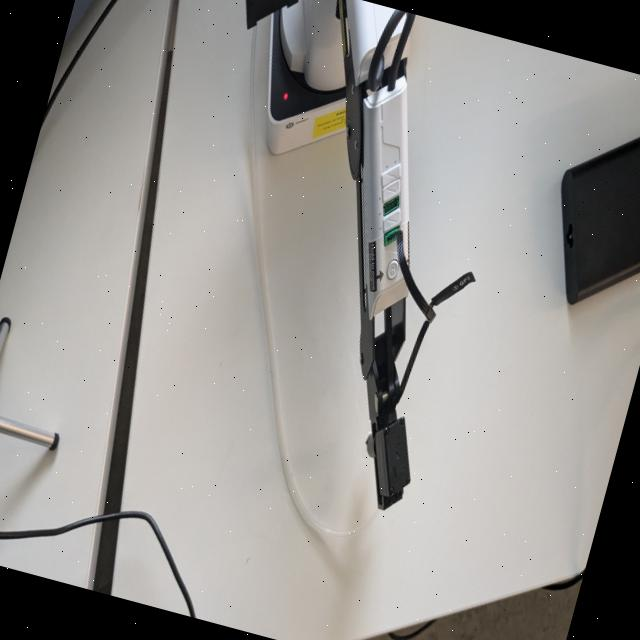Robot-end-effector-HF8z: (342, 415, 437, 524)
